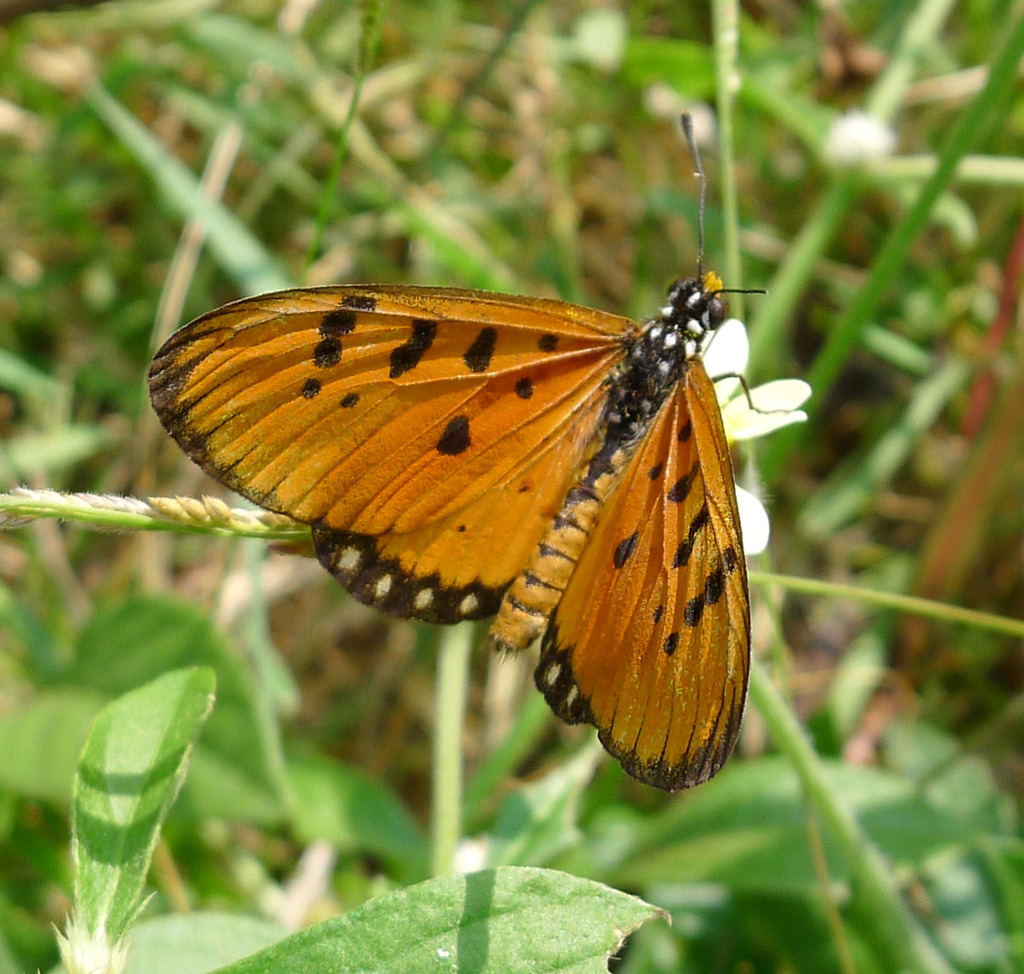Butterfly: (135, 280, 754, 794)
